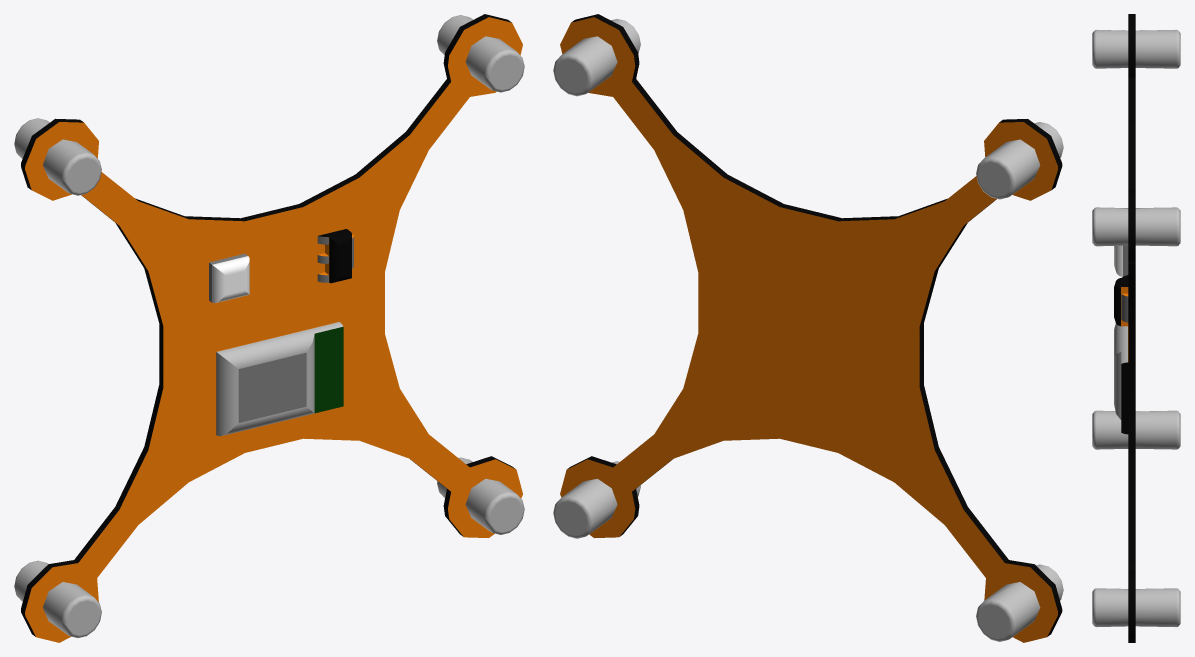
File: quad.obj
3 views of the same model, side by side, from view 1: azimuth 30°, elevation 25°; view 2: azimuth 150°, elevation 25°; view 3: azimuth 270°, elevation 25° (orthographic). The views are drawn at different scales.
Parts seen in each view (by area): view 1: Design2\Solid; view 2: Design2\Solid; view 3: Design2\Solid.
Boxes of the visible parts, x1,y1,x2,y2 form: Design2\Solid: (14, 14, 524, 642); Design2\Solid: (553, 14, 1063, 642); Design2\Solid: (1092, 14, 1180, 642).
Bounding box in the file's own units: 68.67 × 68.64 × 12.23.
